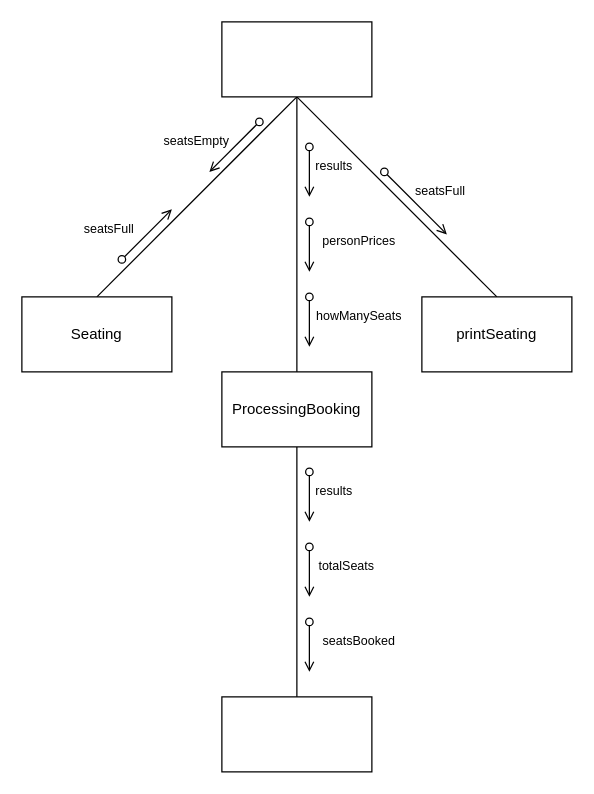
Some shapes in this 594 by 794 pixel diagram are drawn without their labels. The centre of each missing label's shape, as x and y in pixels:
"bookS eat" goes at point (296, 59).
"receiptFunction" goes at point (296, 734).
